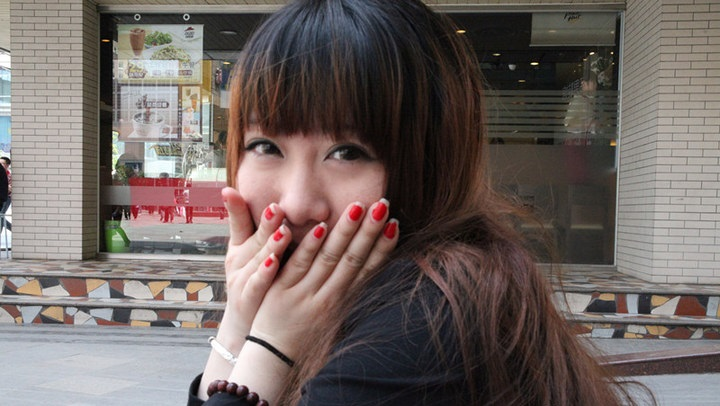face: (238, 84, 391, 276)
